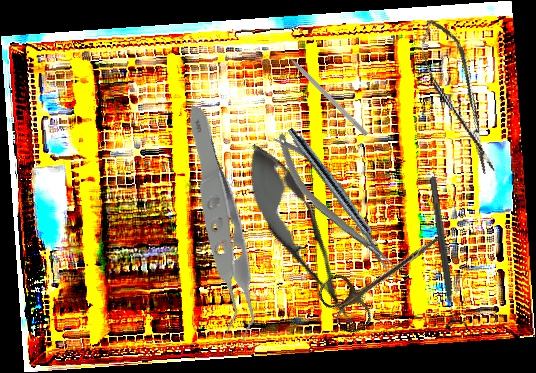Chopper: (278, 42, 374, 137)
Fixation Ring: (420, 174, 469, 332)
Handpiece: (283, 125, 389, 259)
Iris Scissors: (314, 208, 459, 339)
Micro Scissor: (228, 133, 375, 339), (413, 13, 504, 181)
Needle Holder: (265, 123, 401, 283)
Tissue Forceps: (118, 104, 315, 353)
